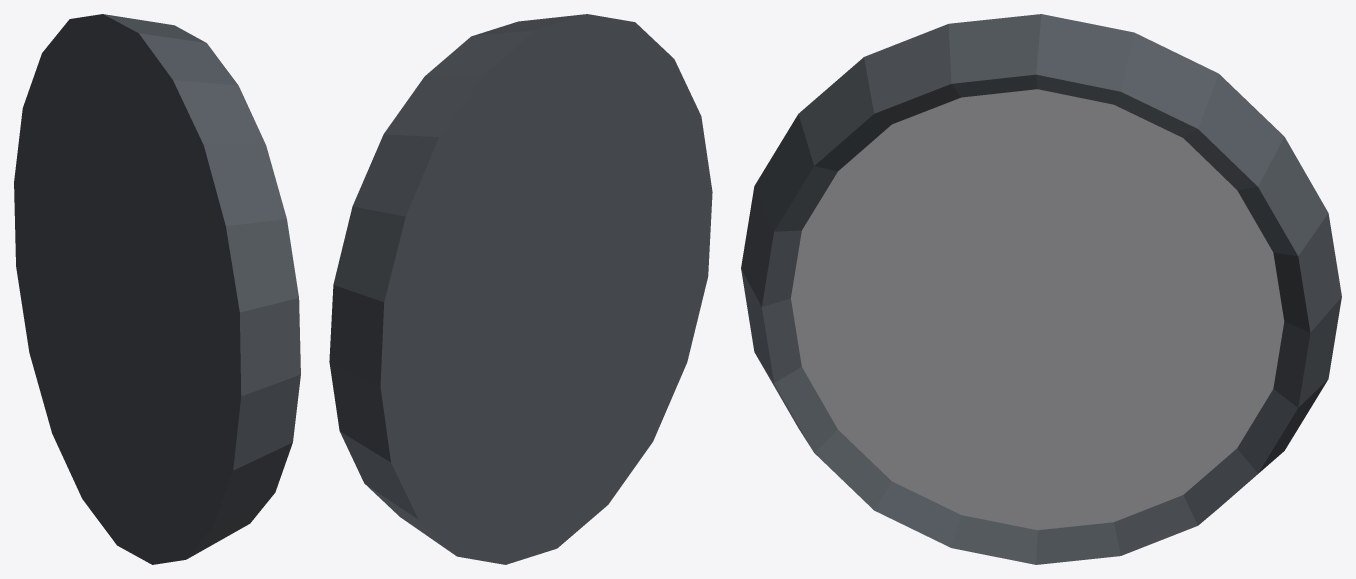
The model's file is Dropship_04_Artillery_Mount.fbx.
3 views of the same model, side by side, from view 1: azimuth 30°, elevation 25°; view 2: azimuth 150°, elevation 25°; view 3: azimuth 270°, elevation 25° (orthographic). The views are drawn at different scales.
Parts seen in each view (by area): view 1: Dropship_04_Artillery_Mount; view 2: Dropship_04_Artillery_Mount; view 3: Dropship_04_Artillery_Mount.
Part boxes in pixels (x1,y1,x2,y2): Dropship_04_Artillery_Mount: [14, 14, 300, 564]; Dropship_04_Artillery_Mount: [329, 14, 712, 564]; Dropship_04_Artillery_Mount: [741, 14, 1341, 564].
Size of the model in its own units: 50.68 by 206 by 205.
Materials: 1 (1 with a texture image).
